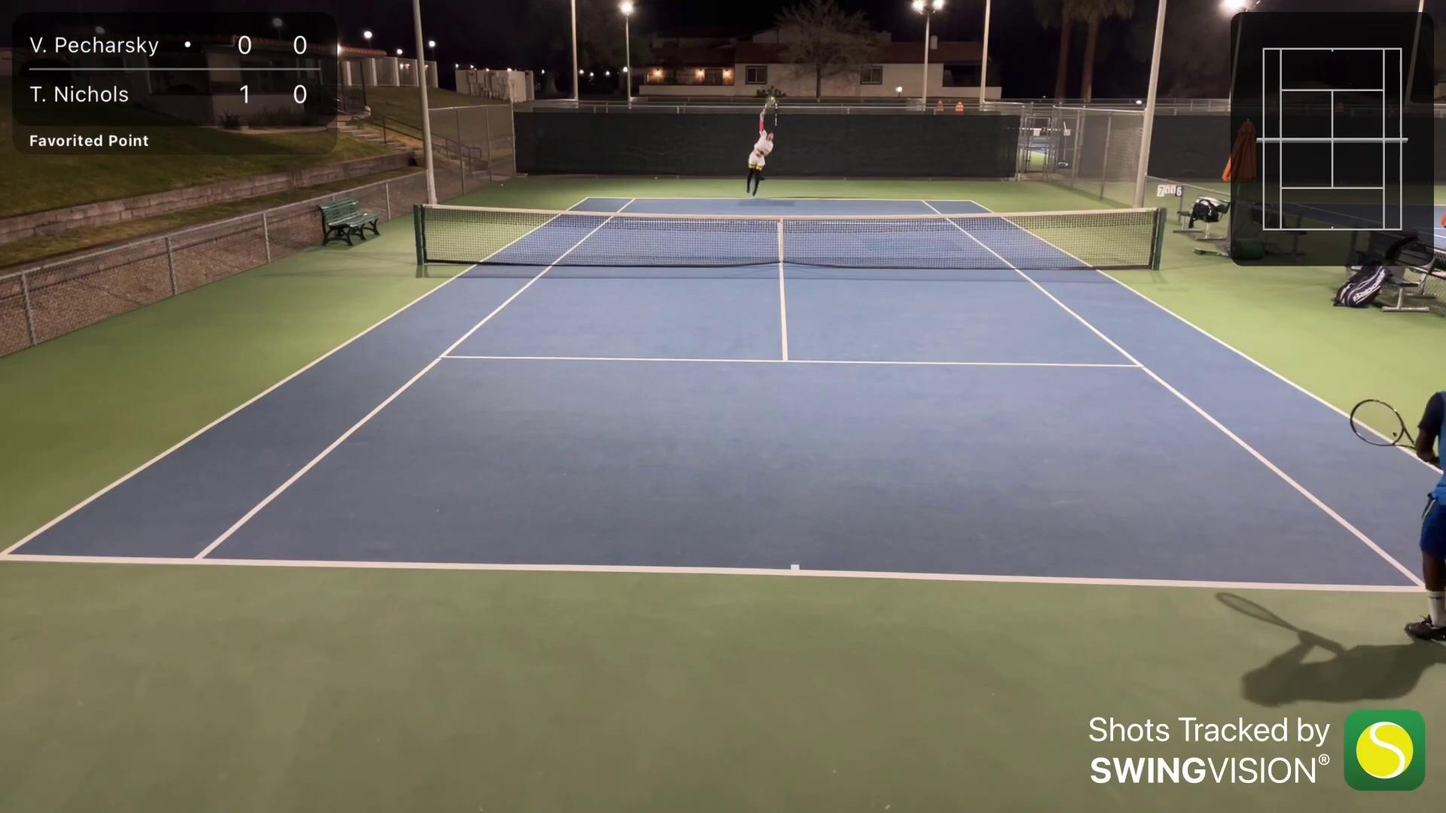ball: (768, 93, 776, 101), (1041, 93, 1048, 100)
